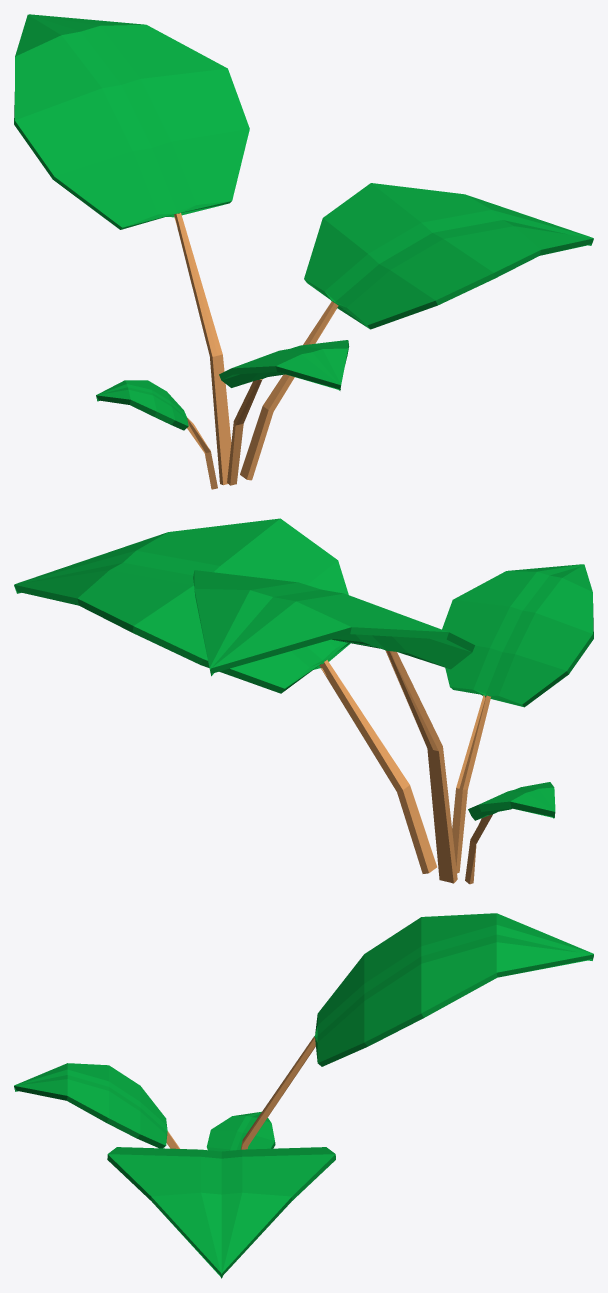
Rendered from plant2.fbx.
3 renders of one model, top to bottom at view 1: azimuth 30°, elevation 25°; view 2: azimuth 150°, elevation 25°; view 3: azimuth 270°, elevation 25°, orthographic. The views are drawn at different scales.
Visible parts, largest first — view 1: Plane.001; view 2: Plane.001; view 3: Plane.001.
Part boxes in pixels (x1,y1,x2,y2): Plane.001: (14,14,593,489); Plane.001: (14,518,593,884); Plane.001: (14,913,593,1278).
Size of the model in its own units: 1674 by 1164 by 1908.
